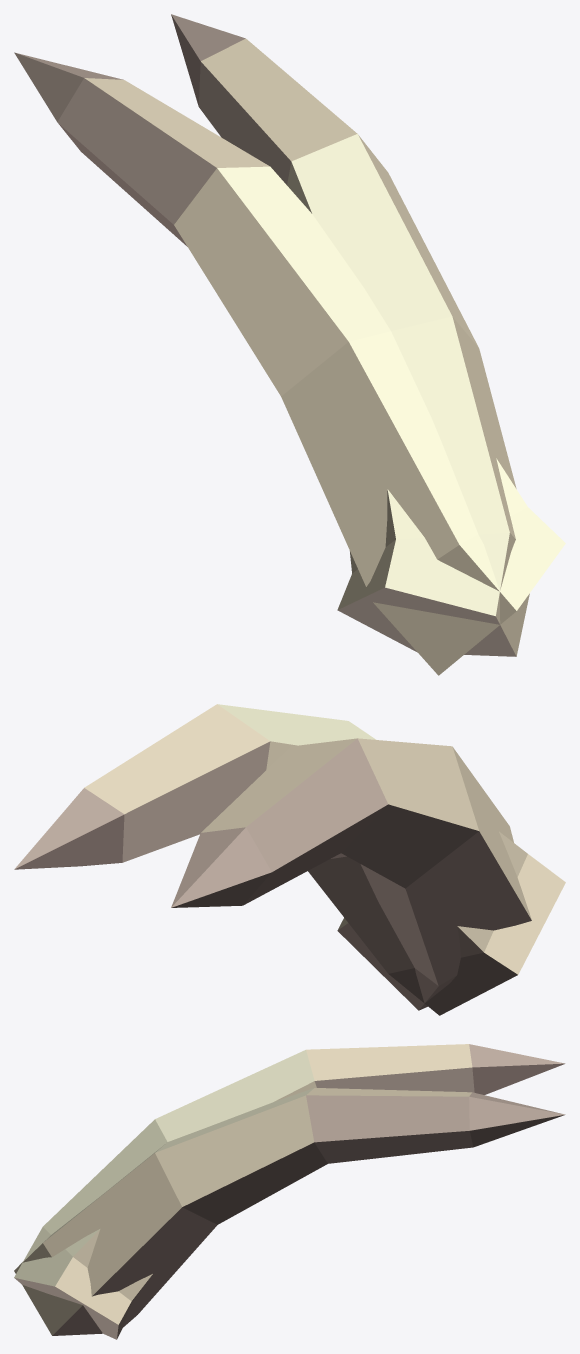
Rendered from horns_kb_swept.glb.
The picture shows the model from 3 angles, top to bottom: view 1: azimuth 30°, elevation 25°; view 2: azimuth 150°, elevation 25°; view 3: azimuth 270°, elevation 25°; orthographic projection. The views are drawn at different scales.
Parts seen in each view (by area): view 1: Horn_R, Horn_L; view 2: Horn_R, Horn_L; view 3: Horn_L, Horn_R.
Boxes of the visible parts, bbox=[...] form: Horn_R: bbox=[14, 52, 565, 675]; Horn_L: bbox=[171, 14, 529, 656]; Horn_R: bbox=[171, 738, 531, 1010]; Horn_L: bbox=[14, 704, 565, 1015]; Horn_L: bbox=[14, 1088, 565, 1335]; Horn_R: bbox=[14, 1044, 565, 1339].
Bounding box in the file's own units: 0.028 × 0.0497 × 0.0934.
Materials: 1 (1 with a texture image).
